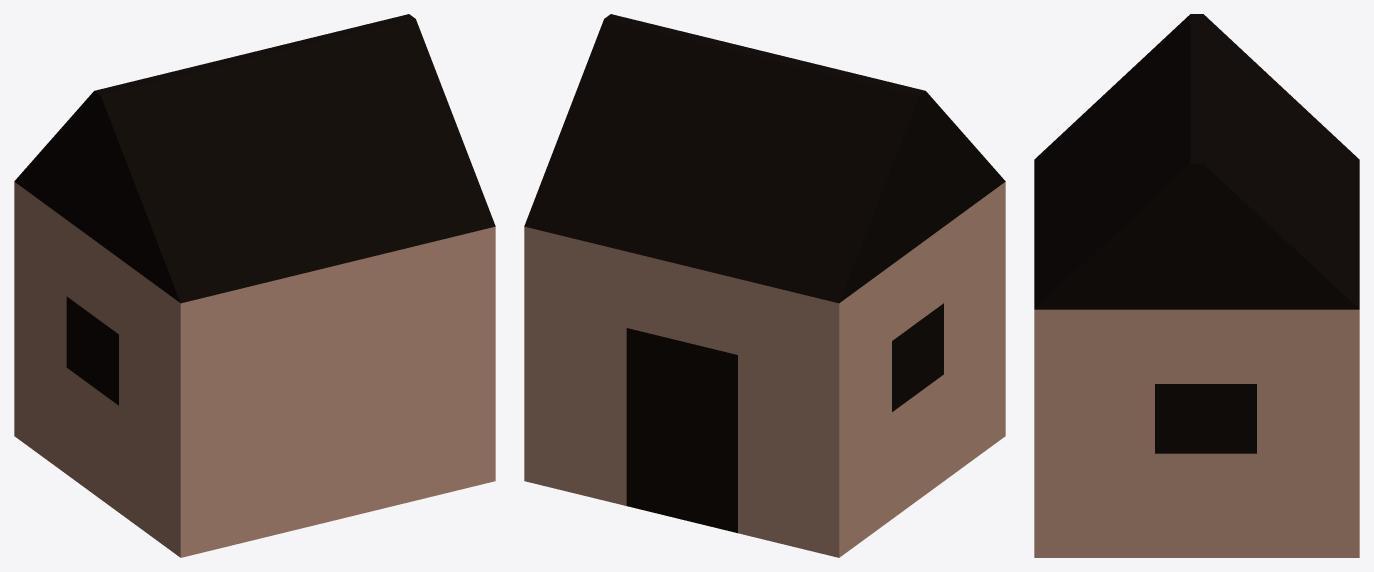
Rendered from House_small_v1.fbx.
3 renders of one model, left to right at view 1: azimuth 30°, elevation 25°; view 2: azimuth 150°, elevation 25°; view 3: azimuth 270°, elevation 25°, orthographic. The views are drawn at different scales.
Visible parts, largest first — view 1: House2_10; view 2: House2_10; view 3: House2_10.
Boxes of the visible parts, x1,y1,x2,y2 form: House2_10: (14, 14, 495, 557); House2_10: (524, 14, 1005, 557); House2_10: (1034, 14, 1359, 557).
Size of the model in its own units: 3.96 by 4.85 by 3.62.
